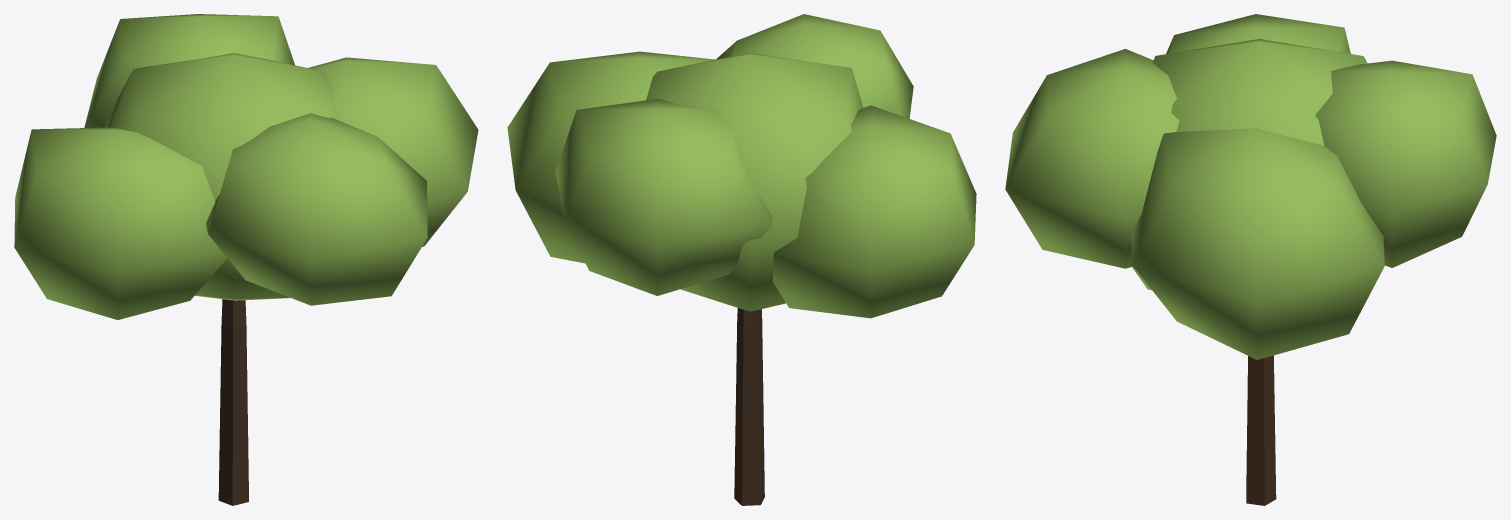
3 views of the same model, side by side, from view 1: azimuth 30°, elevation 25°; view 2: azimuth 150°, elevation 25°; view 3: azimuth 270°, elevation 25° (orthographic). The views are drawn at different scales.
Visible parts, largest first — view 1: 树_03; view 2: 树_03; view 3: 树_03.
Boxes of the visible parts, x1=… form: 树_03: x1=14, y1=14, x2=478, y2=505; 树_03: x1=507, y1=14, x2=976, y2=505; 树_03: x1=1005, y1=14, x2=1496, y2=505.
Size of the model in its own units: 5.7 by 5.2 by 5.07.
